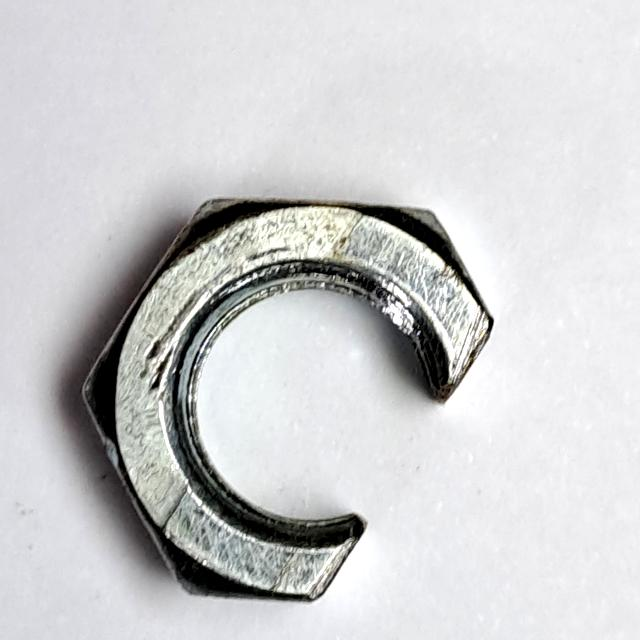Fracture: (70, 177, 502, 626)
